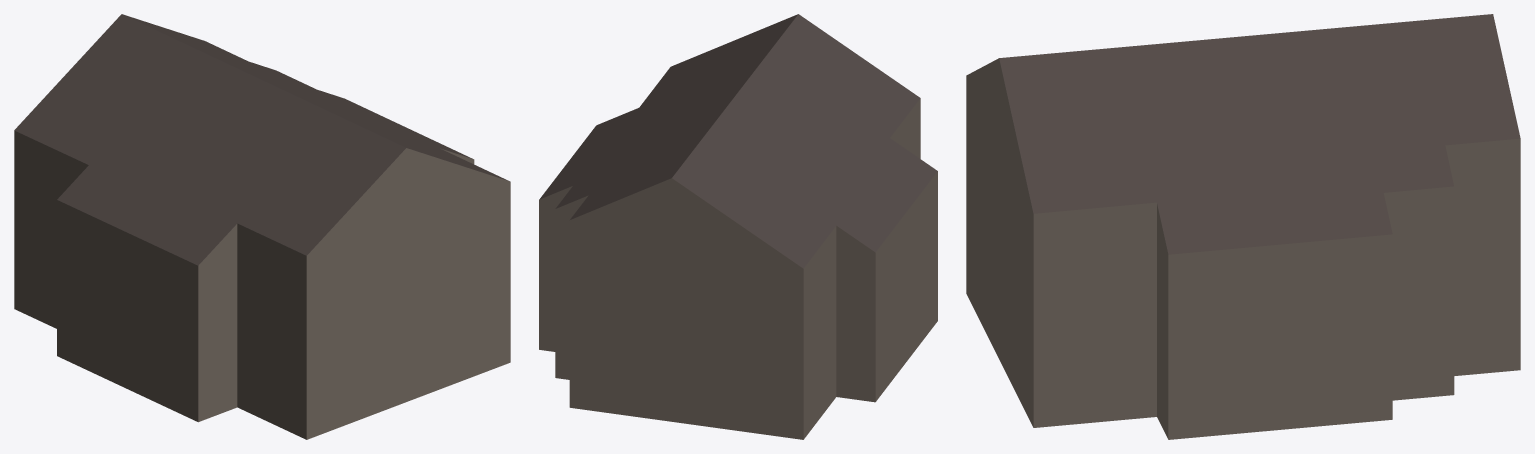
The picture shows the model from 3 angles, left to right: view 1: azimuth 30°, elevation 25°; view 2: azimuth 150°, elevation 25°; view 3: azimuth 270°, elevation 25°; orthographic projection. The views are drawn at different scales.
Parts seen in each view (by area): view 1: HP-w299010061; view 2: HP-w299010061; view 3: HP-w299010061.
Part boxes in pixels (left/top/right/bottom): HP-w299010061: left=14, top=14, right=510, bottom=439; HP-w299010061: left=539, top=14, right=937, bottom=439; HP-w299010061: left=966, top=14, right=1520, bottom=439.
Size of the model in its own units: 21.35 by 14.64 by 24.41.
